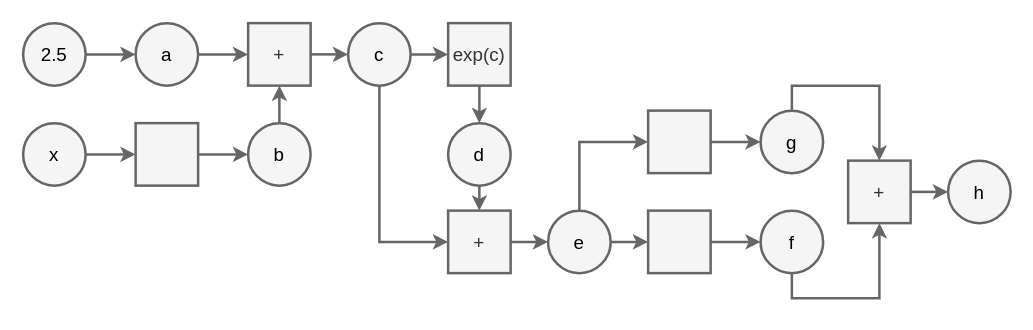
Some shapes in this 1033 by 330 pixel diagram are drawn without their labels. The shapes that lost their labels are listed below. From the top down, each one's centre as x and y in pixels, then its label:
pixel 166 153: x 3
pixel 678 141: log(e)
pixel 678 241: e 2
